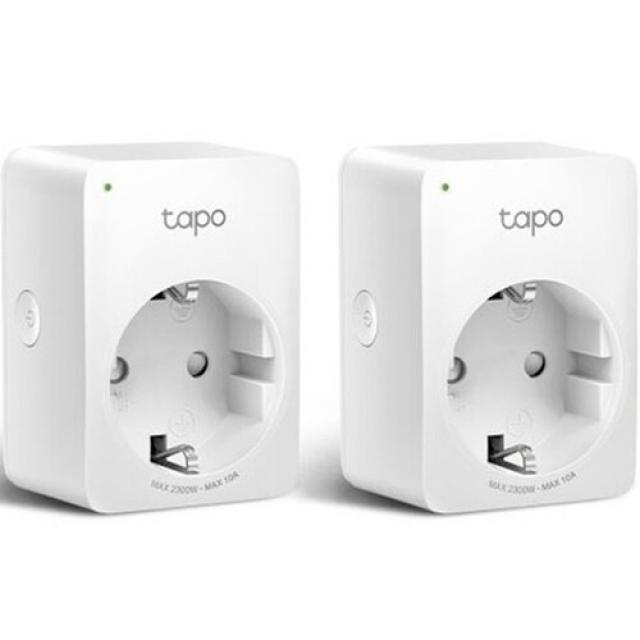typeb: (329, 104, 640, 563), (0, 115, 315, 553)
